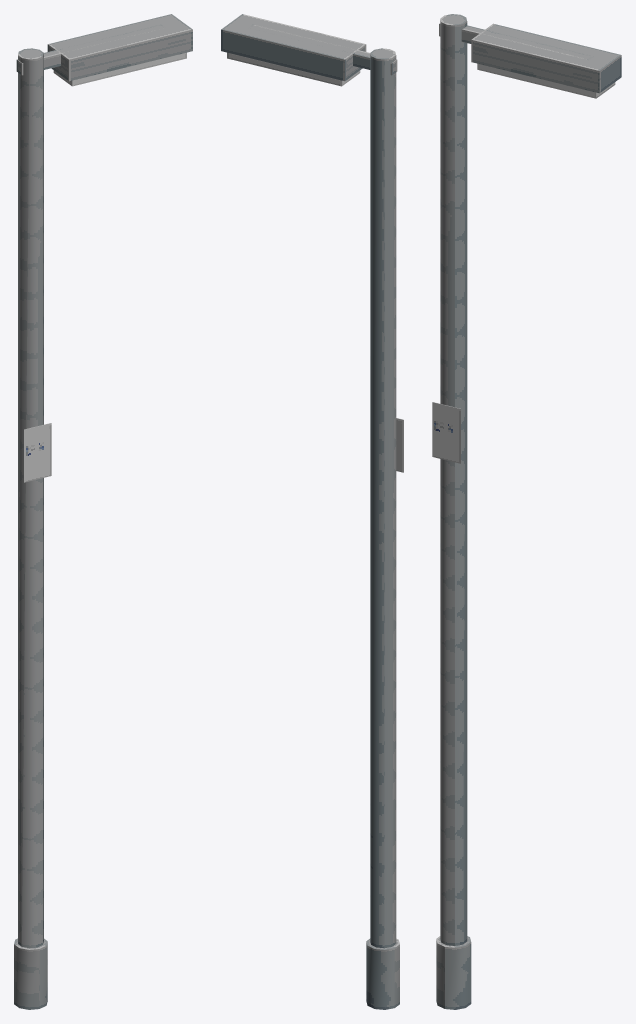
File: streetlight.glb
The picture shows the model from 3 angles, left to right: view 1: azimuth 30°, elevation 25°; view 2: azimuth 150°, elevation 25°; view 3: azimuth 330°, elevation 25°; orthographic projection. The views are drawn at different scales.
Parts seen in each view (by area): view 1: mesh; view 2: mesh; view 3: mesh.
Boxes of the visible parts, box(x1,y1,x2,y2) form: mesh: box(14, 14, 192, 1009); mesh: box(221, 14, 403, 1009); mesh: box(432, 14, 621, 1009).
Bounding box in the file's own units: 0.7566 × 4.14 × 0.1678.
1 material, 1 textured.
